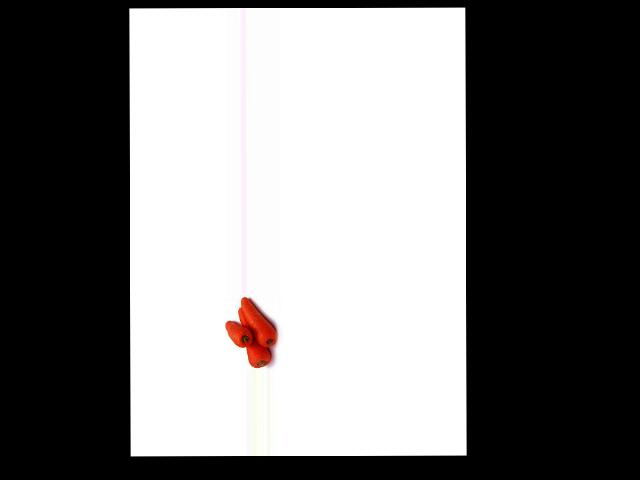carrot: (237, 300, 272, 369)
